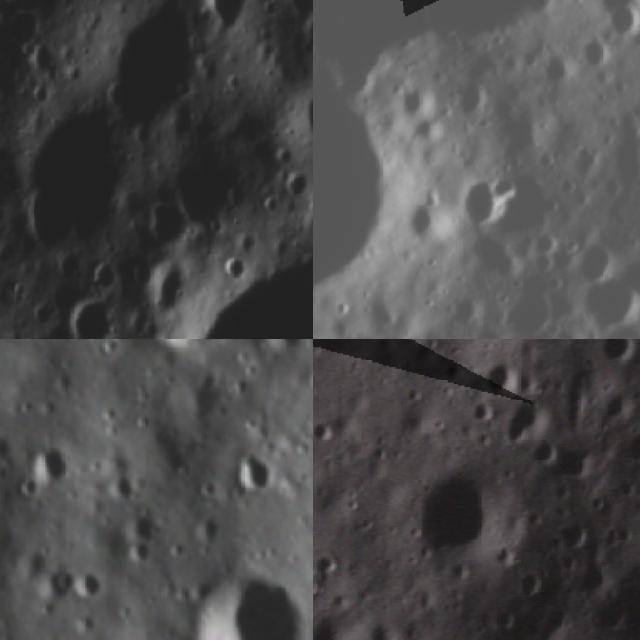crater: (313, 0, 539, 339), (7, 107, 124, 263), (84, 0, 213, 135), (160, 240, 313, 339), (403, 454, 517, 571), (176, 557, 313, 640), (481, 269, 574, 339), (498, 374, 568, 446), (279, 62, 313, 195), (398, 189, 463, 254), (450, 169, 516, 233), (535, 426, 610, 481), (168, 362, 229, 425), (225, 442, 285, 502), (142, 196, 196, 256), (567, 232, 623, 288), (522, 42, 580, 96), (26, 434, 82, 489), (390, 72, 443, 127), (67, 291, 124, 339), (197, 0, 256, 43), (0, 496, 22, 610), (573, 25, 622, 72), (451, 79, 498, 127), (313, 599, 367, 640), (404, 108, 452, 152), (148, 339, 239, 359), (66, 565, 107, 605), (553, 514, 592, 556), (510, 563, 548, 604), (594, 339, 640, 372), (40, 556, 74, 597), (618, 247, 640, 304), (259, 339, 313, 357), (313, 411, 340, 445)
